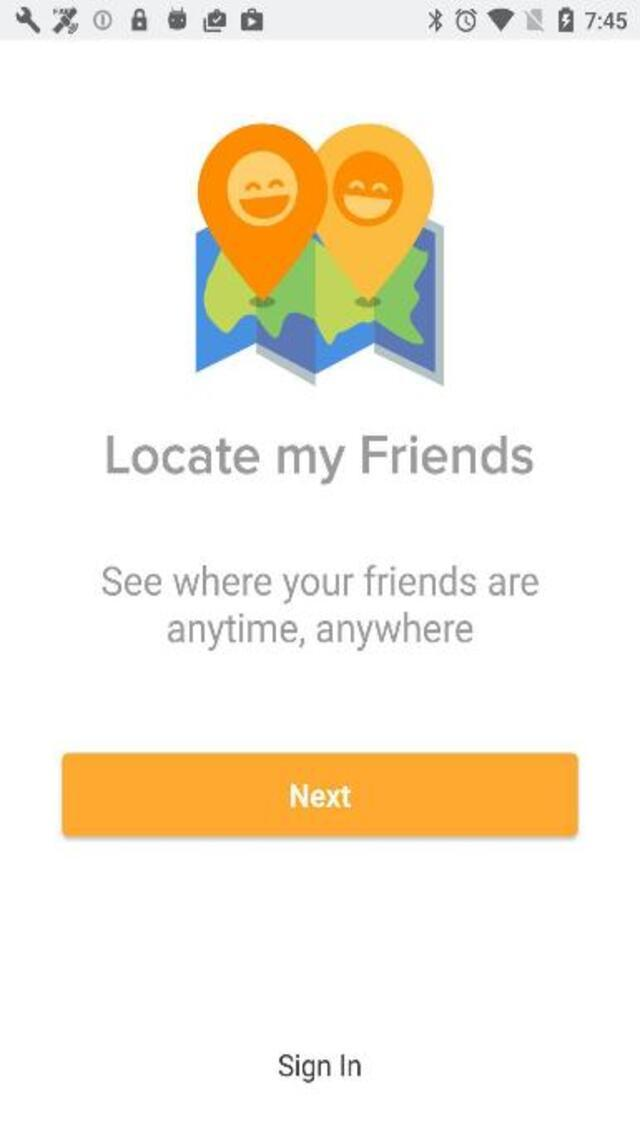Image: (194, 122, 443, 387)
Text: (100, 431, 536, 483), (97, 562, 547, 604), (160, 611, 484, 654), (284, 778, 358, 815), (278, 1053, 359, 1081)
TextButton: (62, 753, 580, 837)
